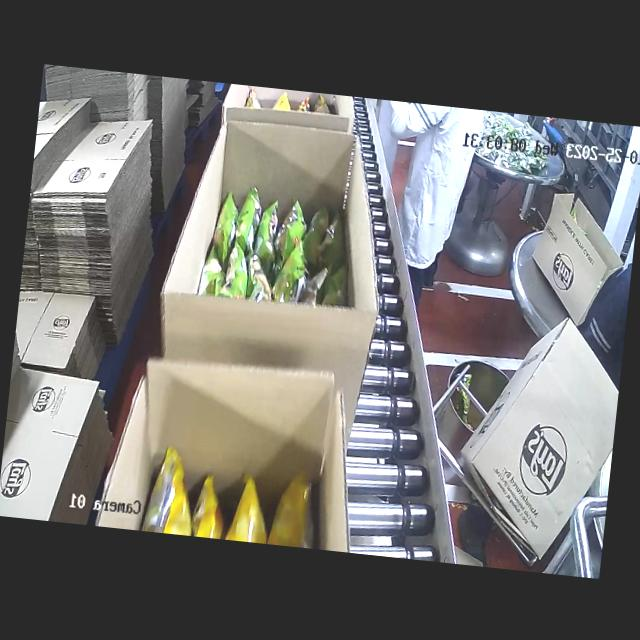salted: (121, 414, 342, 549)
yogurt: (194, 178, 354, 316)
